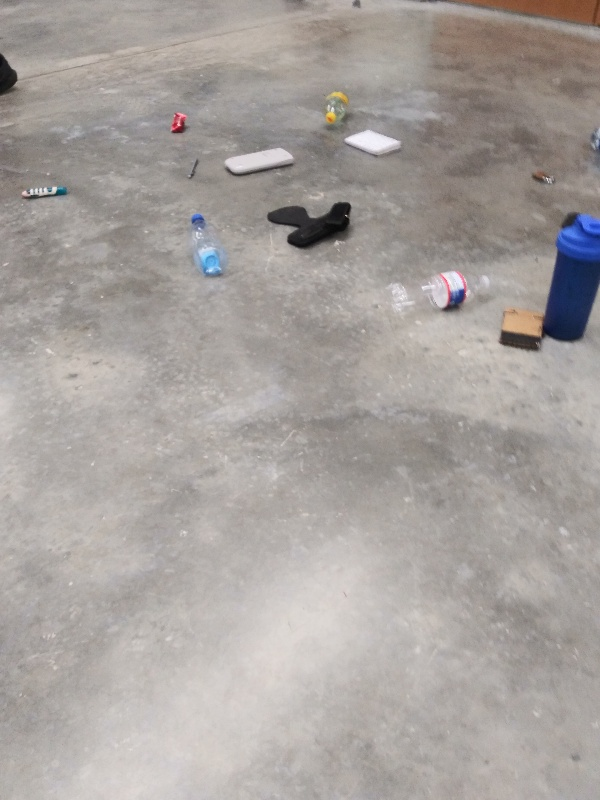bottle: (383, 268, 495, 316), (184, 211, 230, 277), (318, 86, 351, 126)
